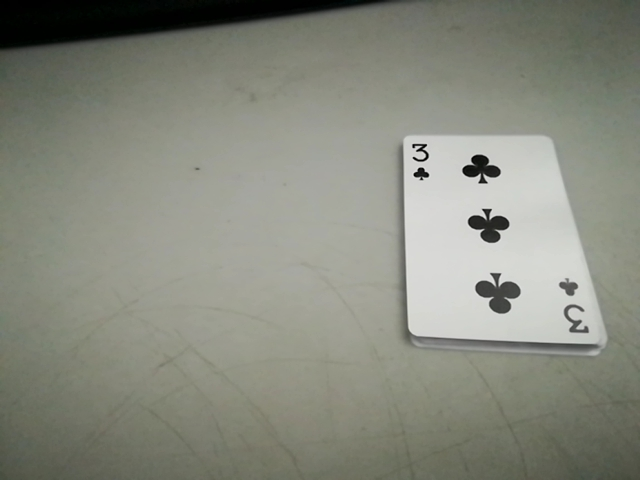mh 3: (552, 273, 595, 341), (407, 136, 437, 186)
